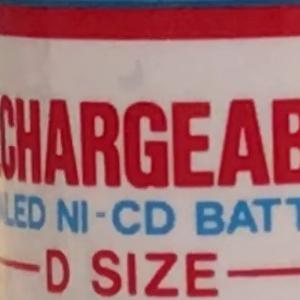keyword: (47, 191, 185, 243)
